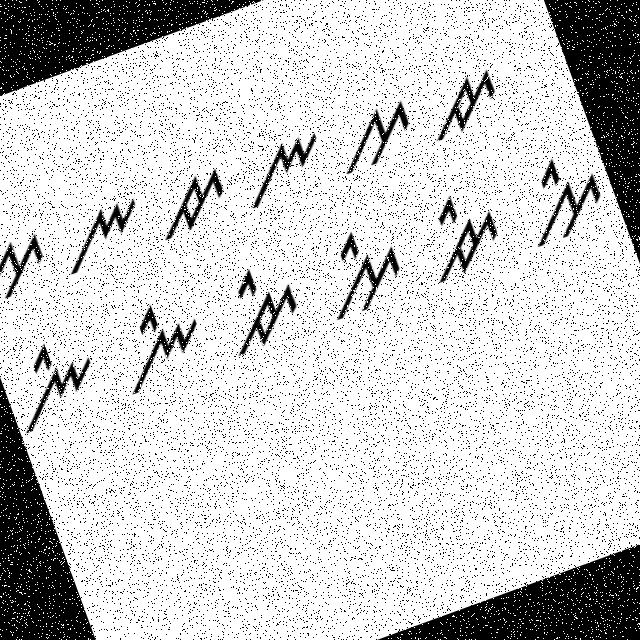ja: (409, 56, 508, 150), (140, 160, 238, 247)
ji: (204, 254, 310, 362), (408, 180, 514, 288)
nya: (226, 116, 336, 216), (44, 188, 153, 279)
nyi: (100, 287, 218, 400), (0, 326, 112, 437)
sa: (318, 86, 424, 180), (0, 217, 60, 313)
si: (506, 138, 618, 256), (304, 214, 417, 324)
